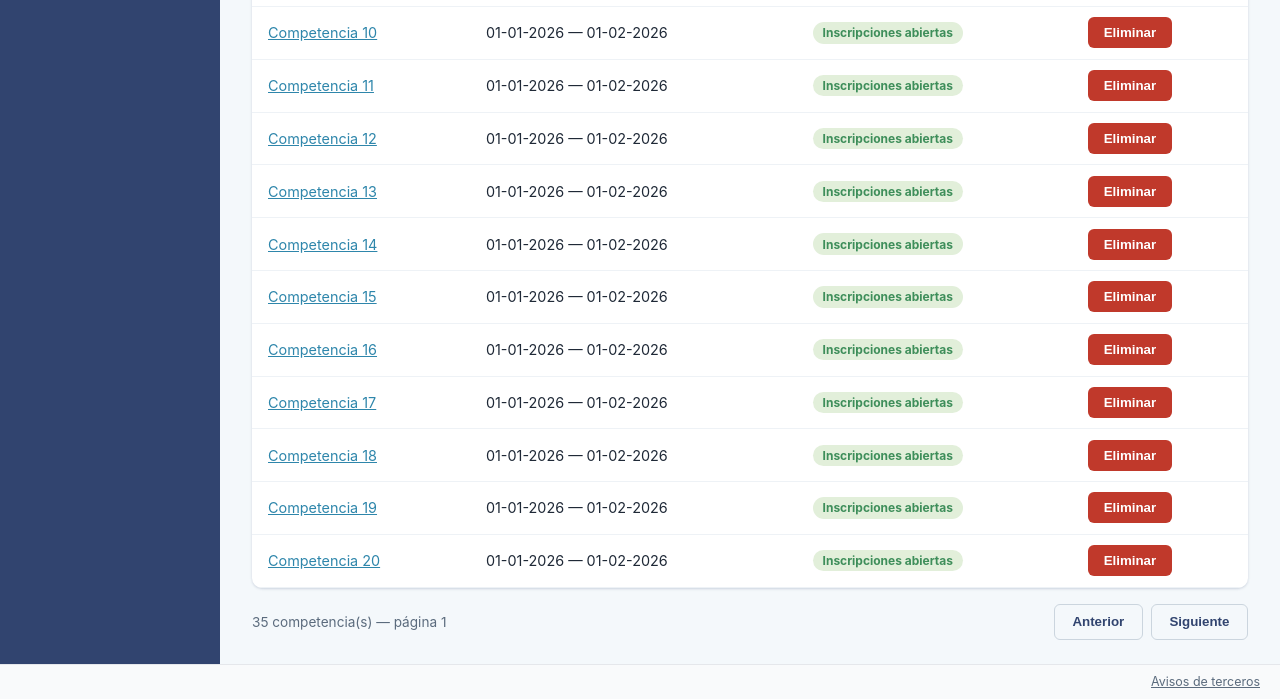
Test: CompetitionsListPage: paginación real › navega a la SEGUNDA página y muestra sus elementos
(page scrolled)
Check: the text "35 competencia(s) — página 1" is shown, box [252, 614, 446, 630]
Click the button "Siguiente": (1199, 622) [1151, 604, 1248, 640]
(page scrolled)
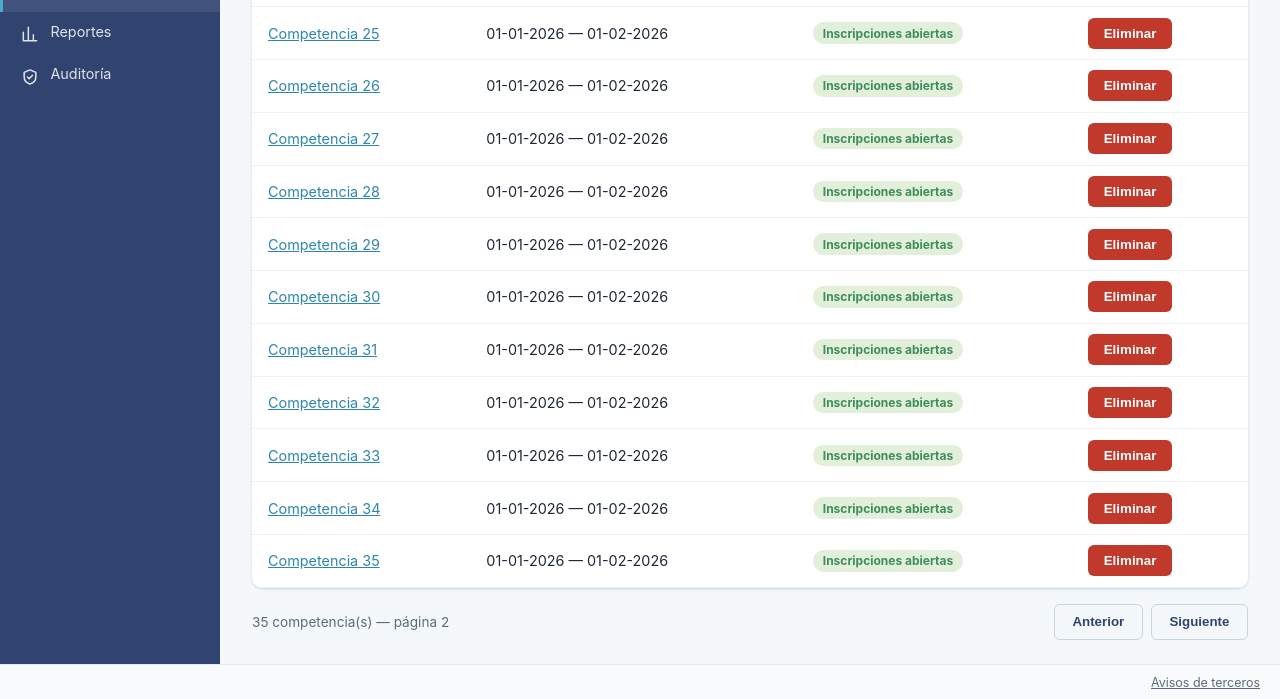
Check: the button "Anterior" is enabled, box [1054, 604, 1143, 640]
Check: the link "Competencia 35" is shown, box [268, 552, 380, 569]
Check: the link "Competencia 1" is gone
